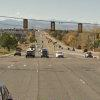traffic lights: (22, 18, 29, 28)
